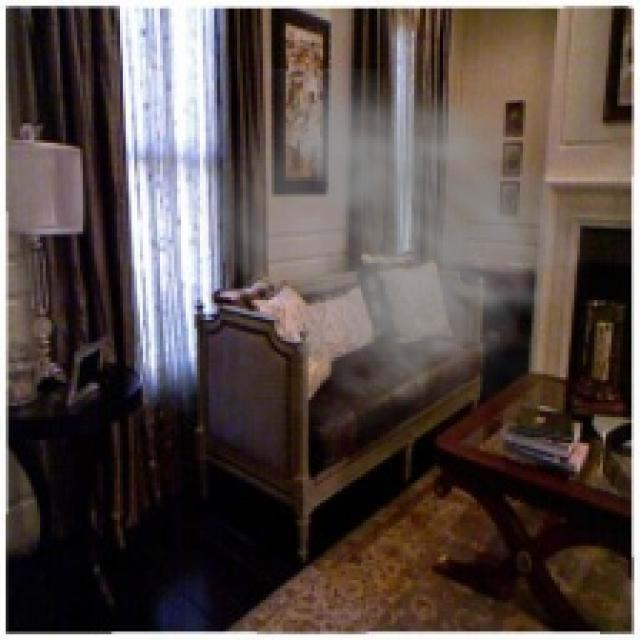Smoke: (188, 68, 600, 446)
